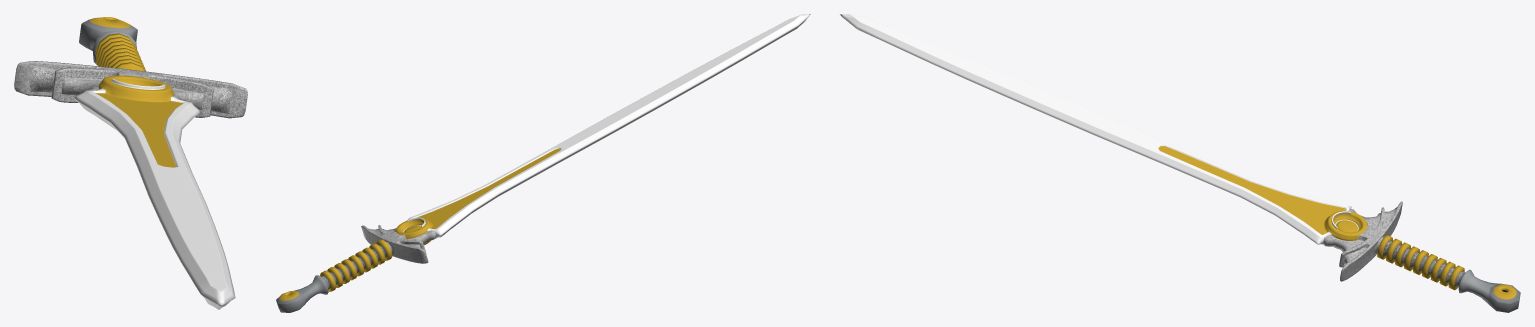
The picture shows the model from 3 angles, left to right: view 1: azimuth 30°, elevation 25°; view 2: azimuth 150°, elevation 25°; view 3: azimuth 270°, elevation 25°; orthographic projection. The views are drawn at different scales.
Visible parts, largest first — view 1: sword; view 2: sword; view 3: sword.
Boxes of the visible parts, x1,y1,x2,y2 form: sword: (14,17,247,309); sword: (276,14,810,312); sword: (840,14,1520,312).
Bounding box in the file's own units: 0.6487 × 0.3665 × 1.36.
